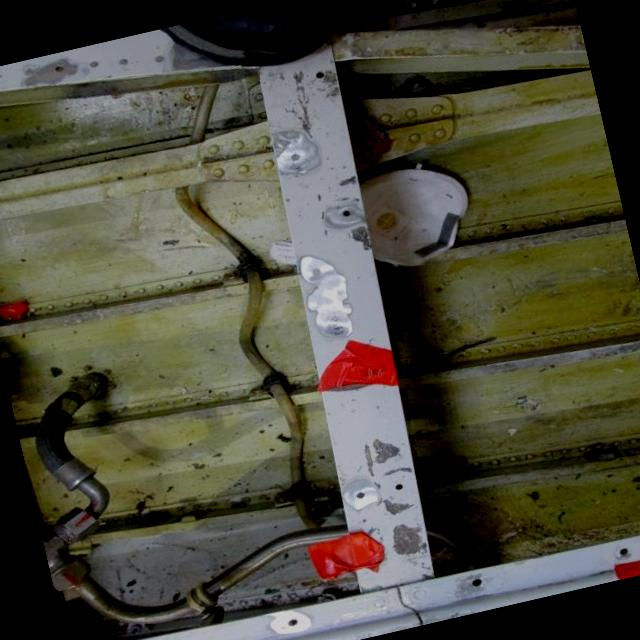Missing Fastener: (44, 56, 77, 80), (282, 144, 312, 168), (332, 202, 360, 225), (346, 482, 374, 504), (304, 259, 330, 282), (463, 574, 492, 594), (611, 539, 640, 559), (387, 476, 412, 498), (281, 613, 305, 631), (312, 68, 330, 82)
